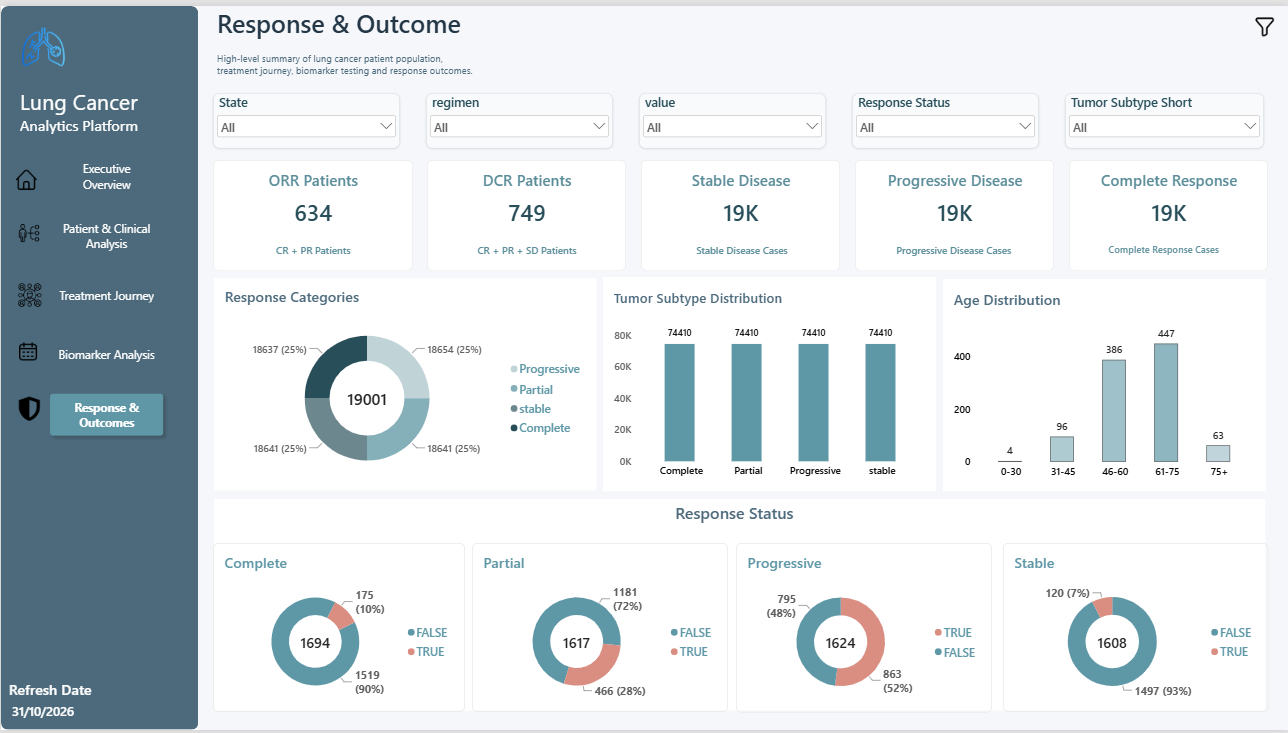

The dashboard page shown, as its layout file describes it:
{"tool":"powerbi","page":{"name":"Response & Outcomes","canvas":[1920,1080],"ordinal":4},"visuals":[{"type":"group","id":"g1","title":"Filter Plane","box":[0,0,294.5,1080.4],"z":0,"group":"g6"},{"type":"shape","title":"Plane","box":[0,0,294.5,1080.4],"z":0,"group":"g1"},{"type":"textbox","box":[323.1,0,656.3,108.4],"z":0},{"type":"slicer","fields":{"Values":["Dim_Patient.State"]},"box":[316.8,129.3,279,82.9],"z":0,"group":"g7"},{"type":"cardVisual","fields":{"Data":["Dim_Patient.ORR Patients"]},"box":[316.3,229.7,298.7,165.8],"z":0,"group":"g2"},{"type":"image","box":[24.1,302.3,36.3,72.7],"z":0,"group":"g3"},{"type":"textbox","box":[11.4,1006.2,174.9,31.8],"z":0,"group":"g10"},{"type":"image","box":[27.8,16.7,69.7,89.1],"z":1000,"group":"g1"},{"type":"slicer","fields":{"Values":["Dim_Patient.Tumor Subtype Short"]},"box":[1588,129.3,297,82.9],"z":1000,"group":"g7"},{"type":"pageNavigator","box":[63.6,213.8,187.1,438.2],"z":1000,"group":"g6"},{"type":"group","id":"g2","title":"KPIs","box":[316.3,229.7,1575,165.8],"z":1000},{"type":"cardVisual","fields":{"Data":["Dim_Patient.DCR Patients"]},"box":[636.2,229.7,297.9,165.8],"z":1000,"group":"g2"},{"type":"image","box":[24.1,576.5,36.6,50.4],"z":1000,"group":"g3"},{"type":"cardVisual","fields":{"Data":["Dim_Patient.Refresh Date Display"]},"box":[0,1038,156.7,31],"z":1000,"group":"g10"},{"type":"textbox","box":[27.8,120.5,183.4,92.7],"z":2000,"group":"g1"},{"type":"slicer","fields":{"Values":["response_analysis.Response Status"]},"box":[1270.2,129.3,279,82.9],"z":2000,"group":"g7"},{"type":"image","box":[23.1,228.2,31.4,61.6],"z":2000,"group":"g3"},{"type":"cardVisual","fields":{"Data":["response_analysis.Progressive Disease"]},"box":[1274.3,229.7,297.9,165],"z":2000,"group":"g2"},{"type":"shape","box":[1406.1,406.7,482.3,317.2],"z":2000,"group":"g5"},{"type":"shape","box":[318,735.9,1569.5,315.7],"z":2000},{"type":"slicer","fields":{"Values":["response_analysis.regimen"]},"box":[634.6,129.3,279,82.9],"z":3000,"group":"g7"},{"type":"group","id":"g3","title":"Group 3","box":[23.1,228.2,37.6,398.6],"z":3000,"group":"g1"},{"type":"cardVisual","fields":{"Data":["response_analysis.Stable Disease"]},"box":[955.2,229.7,297.9,165.8],"z":3000,"group":"g2"},{"type":"shape","box":[899,405,497,320.3],"z":3000},{"type":"image","box":[25.9,405.8,34.8,50.4],"z":3000,"group":"g3"},{"type":"shape","box":[317.6,406.1,571,317.3],"z":3000,"group":"g8"},{"type":"slicer","fields":{"Values":["response_analysis.value"]},"box":[952.4,129.3,279,82.9],"z":4000,"group":"g7"},{"type":"cardVisual","fields":{"Data":["response_analysis.Complete Response"]},"box":[1593.4,229.7,297.9,165.8],"z":4000,"group":"g2"},{"type":"group","id":"g4","title":"Group 4","box":[317.6,404.8,571.4,319.6],"z":4000},{"type":"image","box":[27.7,481.3,27.5,67.2],"z":4000,"group":"g3"},{"type":"group","id":"g5","title":"Group 5","box":[1406.1,406.7,482.3,317.6],"z":5000},{"type":"group","id":"g6","title":"Group 6","box":[0,0,294.5,1080.4],"z":6000},{"type":"image","box":[1867,0,38,61],"z":7000},{"type":"textbox","box":[973.4,740,243,52],"z":8000},{"type":"group","id":"g7","title":"Group 2","box":[316.8,129.3,1568.2,82.9],"z":9000},{"type":"donutChart","title":"Complete ","fields":{"Category":["response_analysis.value"],"Series":["response_analysis.Response Status"],"Y":["CountNonNull(response_analysis.patient id)"]},"box":[317.1,800.8,375.6,252],"z":9000,"group":"g9"},{"type":"group","id":"g8","title":"Group 1","box":[317.6,404.8,571.4,319.6],"z":9001,"group":"g4"},{"type":"lineStackedColumnComboChart","title":"Tumor Subtype Distribution","fields":{"Category":["response_analysis.Response Status"],"Y":["CountNonNull(response_analysis.patient id)"]},"box":[899.1,407.4,497.7,317.1],"z":10000},{"type":"donutChart","title":"Stable","fields":{"Category":["response_analysis.value"],"Series":["response_analysis.Response Status"],"Y":["Count(response_analysis.patient id)"]},"box":[1496.4,800.8,396.2,252],"z":10000,"group":"g9"},{"type":"columnChart","title":"Age Distribution","fields":{"Category":["Dim_Patient.Age Group"],"Y":["Dim_Patient.Total Patients"]},"box":[1406.2,407.7,479.1,316.7],"z":10001,"group":"g5"},{"type":"donutChart","title":"Response Categories","fields":{"Category":["response_analysis.Response Status"],"Y":["Count(response_analysis.patient id)"]},"box":[318,404.8,571,319.6],"z":10002,"group":"g8"},{"type":"group","id":"g9","title":"Group 7","box":[317.1,800.8,1575.5,252.9],"z":11000},{"type":"textbox","box":[405,354,123.2,43],"z":12000},{"type":"donutChart","title":"Partial ","fields":{"Category":["response_analysis.value"],"Series":["response_analysis.Response Status"],"Y":["Count(response_analysis.patient id)"]},"box":[704.1,800.8,382.4,252],"z":12000,"group":"g9"},{"type":"textbox","box":[710.5,354,149.2,43],"z":13000},{"type":"donutChart","title":"Progressive ","fields":{"Category":["response_analysis.value"],"Series":["response_analysis.Response Status"],"Y":["Count(response_analysis.patient id)"]},"box":[1098,800.8,382.4,252.9],"z":13000,"group":"g9"},{"type":"textbox","box":[1012.9,354.4,184.7,43],"z":14000},{"type":"textbox","box":[1300.3,354,244,43],"z":15000},{"type":"textbox","box":[1563.2,354,345.8,43],"z":16000},{"type":"group","id":"g10","title":"Group 1","box":[0,1006.2,186.2,62.8],"z":16001}]}

Visuals, with their boxes in screenshot pixels (x1, y1, x2, y2), scaled from the page's 1920x1080 canvas onto the 1288x733 screenshot:
"Filter Plane" group: x1=0, y1=0, x2=198, y2=732
"Plane" shape: x1=0, y1=0, x2=198, y2=732
textbox: x1=217, y1=0, x2=657, y2=74
slicer - Dim_Patient.State: x1=213, y1=88, x2=400, y2=144
cardVisual - Dim_Patient.ORR Patients: x1=212, y1=156, x2=413, y2=268
image: x1=16, y1=205, x2=41, y2=255
textbox: x1=8, y1=683, x2=125, y2=704
image: x1=19, y1=11, x2=65, y2=72
slicer - Dim_Patient.Tumor Subtype Short: x1=1065, y1=88, x2=1265, y2=144
pageNavigator: x1=43, y1=145, x2=168, y2=443
"KPIs" group: x1=212, y1=156, x2=1269, y2=268
cardVisual - Dim_Patient.DCR Patients: x1=427, y1=156, x2=627, y2=268
image: x1=16, y1=391, x2=41, y2=425
cardVisual - Dim_Patient.Refresh Date Display: x1=0, y1=704, x2=105, y2=726
textbox: x1=19, y1=82, x2=142, y2=145
slicer - response_analysis.Response Status: x1=852, y1=88, x2=1039, y2=144
image: x1=15, y1=155, x2=37, y2=197
cardVisual - response_analysis.Progressive Disease: x1=855, y1=156, x2=1055, y2=268
shape: x1=943, y1=276, x2=1267, y2=491
shape: x1=213, y1=499, x2=1266, y2=714
slicer - response_analysis.regimen: x1=426, y1=88, x2=613, y2=144
"Group 3" group: x1=15, y1=155, x2=41, y2=425
cardVisual - response_analysis.Stable Disease: x1=641, y1=156, x2=841, y2=268
shape: x1=603, y1=275, x2=936, y2=492
image: x1=17, y1=275, x2=41, y2=310
shape: x1=213, y1=276, x2=596, y2=491
slicer - response_analysis.value: x1=639, y1=88, x2=826, y2=144
cardVisual - response_analysis.Complete Response: x1=1069, y1=156, x2=1269, y2=268
"Group 4" group: x1=213, y1=275, x2=596, y2=492
image: x1=19, y1=327, x2=37, y2=372
"Group 5" group: x1=943, y1=276, x2=1267, y2=492
"Group 6" group: x1=0, y1=0, x2=198, y2=732
image: x1=1252, y1=0, x2=1278, y2=41
textbox: x1=653, y1=502, x2=816, y2=538
"Group 2" group: x1=213, y1=88, x2=1265, y2=144
"Complete " donutChart: x1=213, y1=544, x2=465, y2=715
"Group 1" group: x1=213, y1=275, x2=596, y2=492
"Tumor Subtype Distribution" lineStackedColumnComboChart: x1=603, y1=277, x2=937, y2=492
"Stable" donutChart: x1=1004, y1=544, x2=1270, y2=715
"Age Distribution" columnChart: x1=943, y1=277, x2=1265, y2=492
"Response Categories" donutChart: x1=213, y1=275, x2=596, y2=492
"Group 7" group: x1=213, y1=544, x2=1270, y2=715
textbox: x1=272, y1=240, x2=354, y2=269
"Partial " donutChart: x1=472, y1=544, x2=729, y2=715
textbox: x1=477, y1=240, x2=577, y2=269
"Progressive " donutChart: x1=737, y1=544, x2=993, y2=715
textbox: x1=679, y1=241, x2=803, y2=270
textbox: x1=872, y1=240, x2=1036, y2=269
textbox: x1=1049, y1=240, x2=1281, y2=269
"Group 1" group: x1=0, y1=683, x2=125, y2=726
